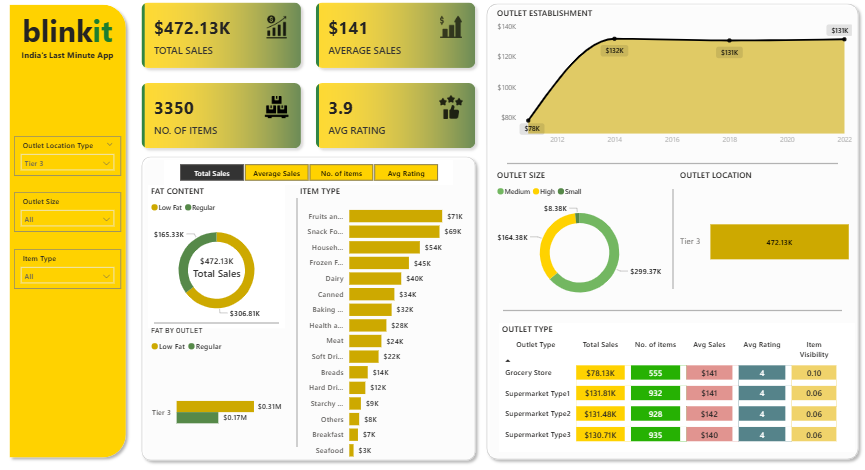

The dashboard page shown, as its layout file describes it:
{"tool":"powerbi","page":{"name":"Page 1","canvas":[1400,800],"ordinal":0},"visuals":[{"type":"shape","box":[12,25.6,204.7,749.7],"z":0},{"type":"textbox","box":[25.7,38.6,175.1,80.3],"z":1000},{"type":"textbox","box":[25.7,101.2,175.1,35.3],"z":2000},{"type":"cardVisual","fields":{"Data":["BlinkIT Grocery Data.Total Sales","BlinkIT Grocery Data.Average Sales","BlinkIT Grocery Data.No. of items","BlinkIT Grocery Data.Avg Rating"]},"box":[215.3,14.5,570.3,269.9],"z":3000},{"type":"shape","box":[223.3,269.9,554.2,506],"z":4000},{"type":"donutChart","title":"FAT CONTENT","fields":{"Y":["BlinkIT Grocery Data.Total Sales"],"Category":["BlinkIT Grocery Data.Item Fat Content"]},"box":[242.6,324.5,220.1,229.7],"z":5000},{"type":"slicer","fields":{"Values":["Metrics.Metrics"]},"box":[268.3,284.3,464.3,40.2],"z":6000},{"type":"cardVisual","fields":{"Data":["BlinkIT Grocery Data.Total Sales"]},"box":[295.6,420.9,115.7,64.3],"z":7000},{"type":"clusteredBarChart","title":"FAT BY OUTLET","fields":{"Y":["BlinkIT Grocery Data.Total Sales"],"Category":["BlinkIT Grocery Data.Outlet Location Type"],"Series":["BlinkIT Grocery Data.Item Fat Content"]},"box":[242.6,551,220.1,229.7],"z":8000},{"type":"shape","box":[252.2,514.1,200.8,64.3],"z":9000},{"type":"shape","box":[453,345.4,57.8,400],"z":10000},{"type":"barChart","title":"ITEM TYPE","fields":{"Y":["BlinkIT Grocery Data.Total Sales"],"Category":["BlinkIT Grocery Data.Item Type"]},"box":[481.9,324.5,282.7,451.4],"z":11000},{"type":"shape","box":[777.5,24.1,615.3,750.2],"z":12000},{"type":"lineChart","title":"OUTLET ESTABLISHMENT","fields":{"Y":["BlinkIT Grocery Data.Total Sales"],"Category":["BlinkIT Grocery Data.Outlet Establishment Year"]},"box":[798.4,38.6,579.9,231.3],"z":13000},{"type":"shape","box":[819.3,269.9,531.7,40.2],"z":14000},{"type":"donutChart","title":"OUTLET SIZE","fields":{"Y":["BlinkIT Grocery Data.Total Sales"],"Category":["BlinkIT Grocery Data.Outlet Size"]},"box":[798.4,298.8,274.7,224.9],"z":14001},{"type":"shape","box":[1063.5,330.9,45,160.6],"z":14002},{"type":"funnel","title":"OUTLET LOCATION","fields":{"Y":["Sum(BlinkIT Grocery Data.Sales)"],"Category":["BlinkIT Grocery Data.Outlet Location Type"]},"box":[1092.4,298.8,285.9,215.3],"z":14003},{"type":"shape","box":[812.9,506,544.6,40.2],"z":14004},{"type":"pivotTable","title":"OUTLET TYPE","fields":{"Rows":["BlinkIT Grocery Data.Outlet Type"],"Values":["BlinkIT Grocery Data.Total Sales","BlinkIT Grocery Data.No. of items","BlinkIT Grocery Data.Average Sales","BlinkIT Grocery Data.Avg Rating","Avg(BlinkIT Grocery Data.Item Visibility)"]},"box":[806.4,546.2,571.9,207.2],"z":14005},{"type":"slicer","fields":{"Values":["BlinkIT Grocery Data.Outlet Location Type"]},"box":[27.3,245.8,171.9,64.3],"z":14006},{"type":"slicer","fields":{"Values":["BlinkIT Grocery Data.Outlet Size"]},"box":[27.3,335.7,171.9,64.3],"z":14007},{"type":"slicer","fields":{"Values":["BlinkIT Grocery Data.Item Type"]},"box":[27.3,427.3,171.9,64.3],"z":14008}]}

Visuals, with their boxes on the page's 1400x800 design canvas (x1, y1, x2, y2). These are canvas units, not pixel positions in the 865x470 screenshot, which may show the page scaled, cropped or inside an application window:
shape: {"x1": 12, "y1": 26, "x2": 217, "y2": 775}
textbox: {"x1": 26, "y1": 39, "x2": 201, "y2": 119}
textbox: {"x1": 26, "y1": 101, "x2": 201, "y2": 136}
cardVisual - BlinkIT Grocery Data.Total Sales x BlinkIT Grocery Data.Average Sales: {"x1": 215, "y1": 14, "x2": 786, "y2": 284}
shape: {"x1": 223, "y1": 270, "x2": 778, "y2": 776}
"FAT CONTENT" donutChart: {"x1": 243, "y1": 324, "x2": 463, "y2": 554}
slicer - Metrics.Metrics: {"x1": 268, "y1": 284, "x2": 733, "y2": 324}
cardVisual - BlinkIT Grocery Data.Total Sales: {"x1": 296, "y1": 421, "x2": 411, "y2": 485}
"FAT BY OUTLET" clusteredBarChart: {"x1": 243, "y1": 551, "x2": 463, "y2": 781}
shape: {"x1": 252, "y1": 514, "x2": 453, "y2": 578}
shape: {"x1": 453, "y1": 345, "x2": 511, "y2": 745}
"ITEM TYPE" barChart: {"x1": 482, "y1": 324, "x2": 765, "y2": 776}
shape: {"x1": 778, "y1": 24, "x2": 1393, "y2": 774}
"OUTLET ESTABLISHMENT" lineChart: {"x1": 798, "y1": 39, "x2": 1378, "y2": 270}
shape: {"x1": 819, "y1": 270, "x2": 1351, "y2": 310}
"OUTLET SIZE" donutChart: {"x1": 798, "y1": 299, "x2": 1073, "y2": 524}
shape: {"x1": 1064, "y1": 331, "x2": 1108, "y2": 492}
"OUTLET LOCATION" funnel: {"x1": 1092, "y1": 299, "x2": 1378, "y2": 514}
shape: {"x1": 813, "y1": 506, "x2": 1358, "y2": 546}
"OUTLET TYPE" pivotTable: {"x1": 806, "y1": 546, "x2": 1378, "y2": 753}
slicer - BlinkIT Grocery Data.Outlet Location Type: {"x1": 27, "y1": 246, "x2": 199, "y2": 310}
slicer - BlinkIT Grocery Data.Outlet Size: {"x1": 27, "y1": 336, "x2": 199, "y2": 400}
slicer - BlinkIT Grocery Data.Item Type: {"x1": 27, "y1": 427, "x2": 199, "y2": 492}
